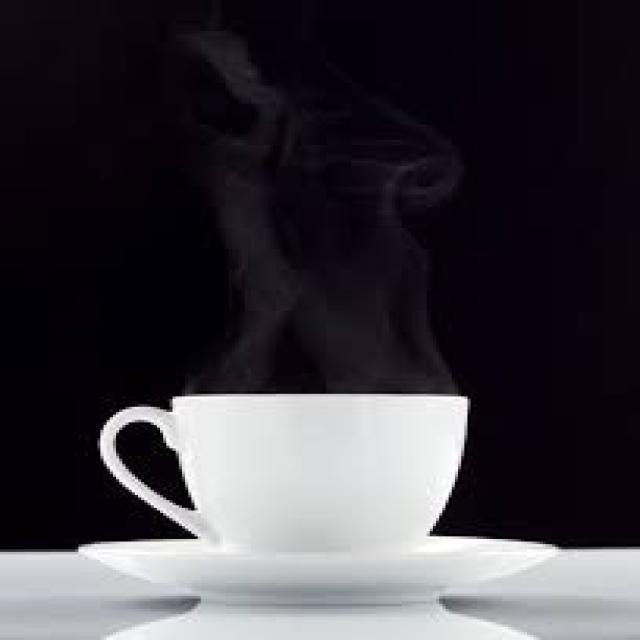taza: (88, 324, 486, 570)
